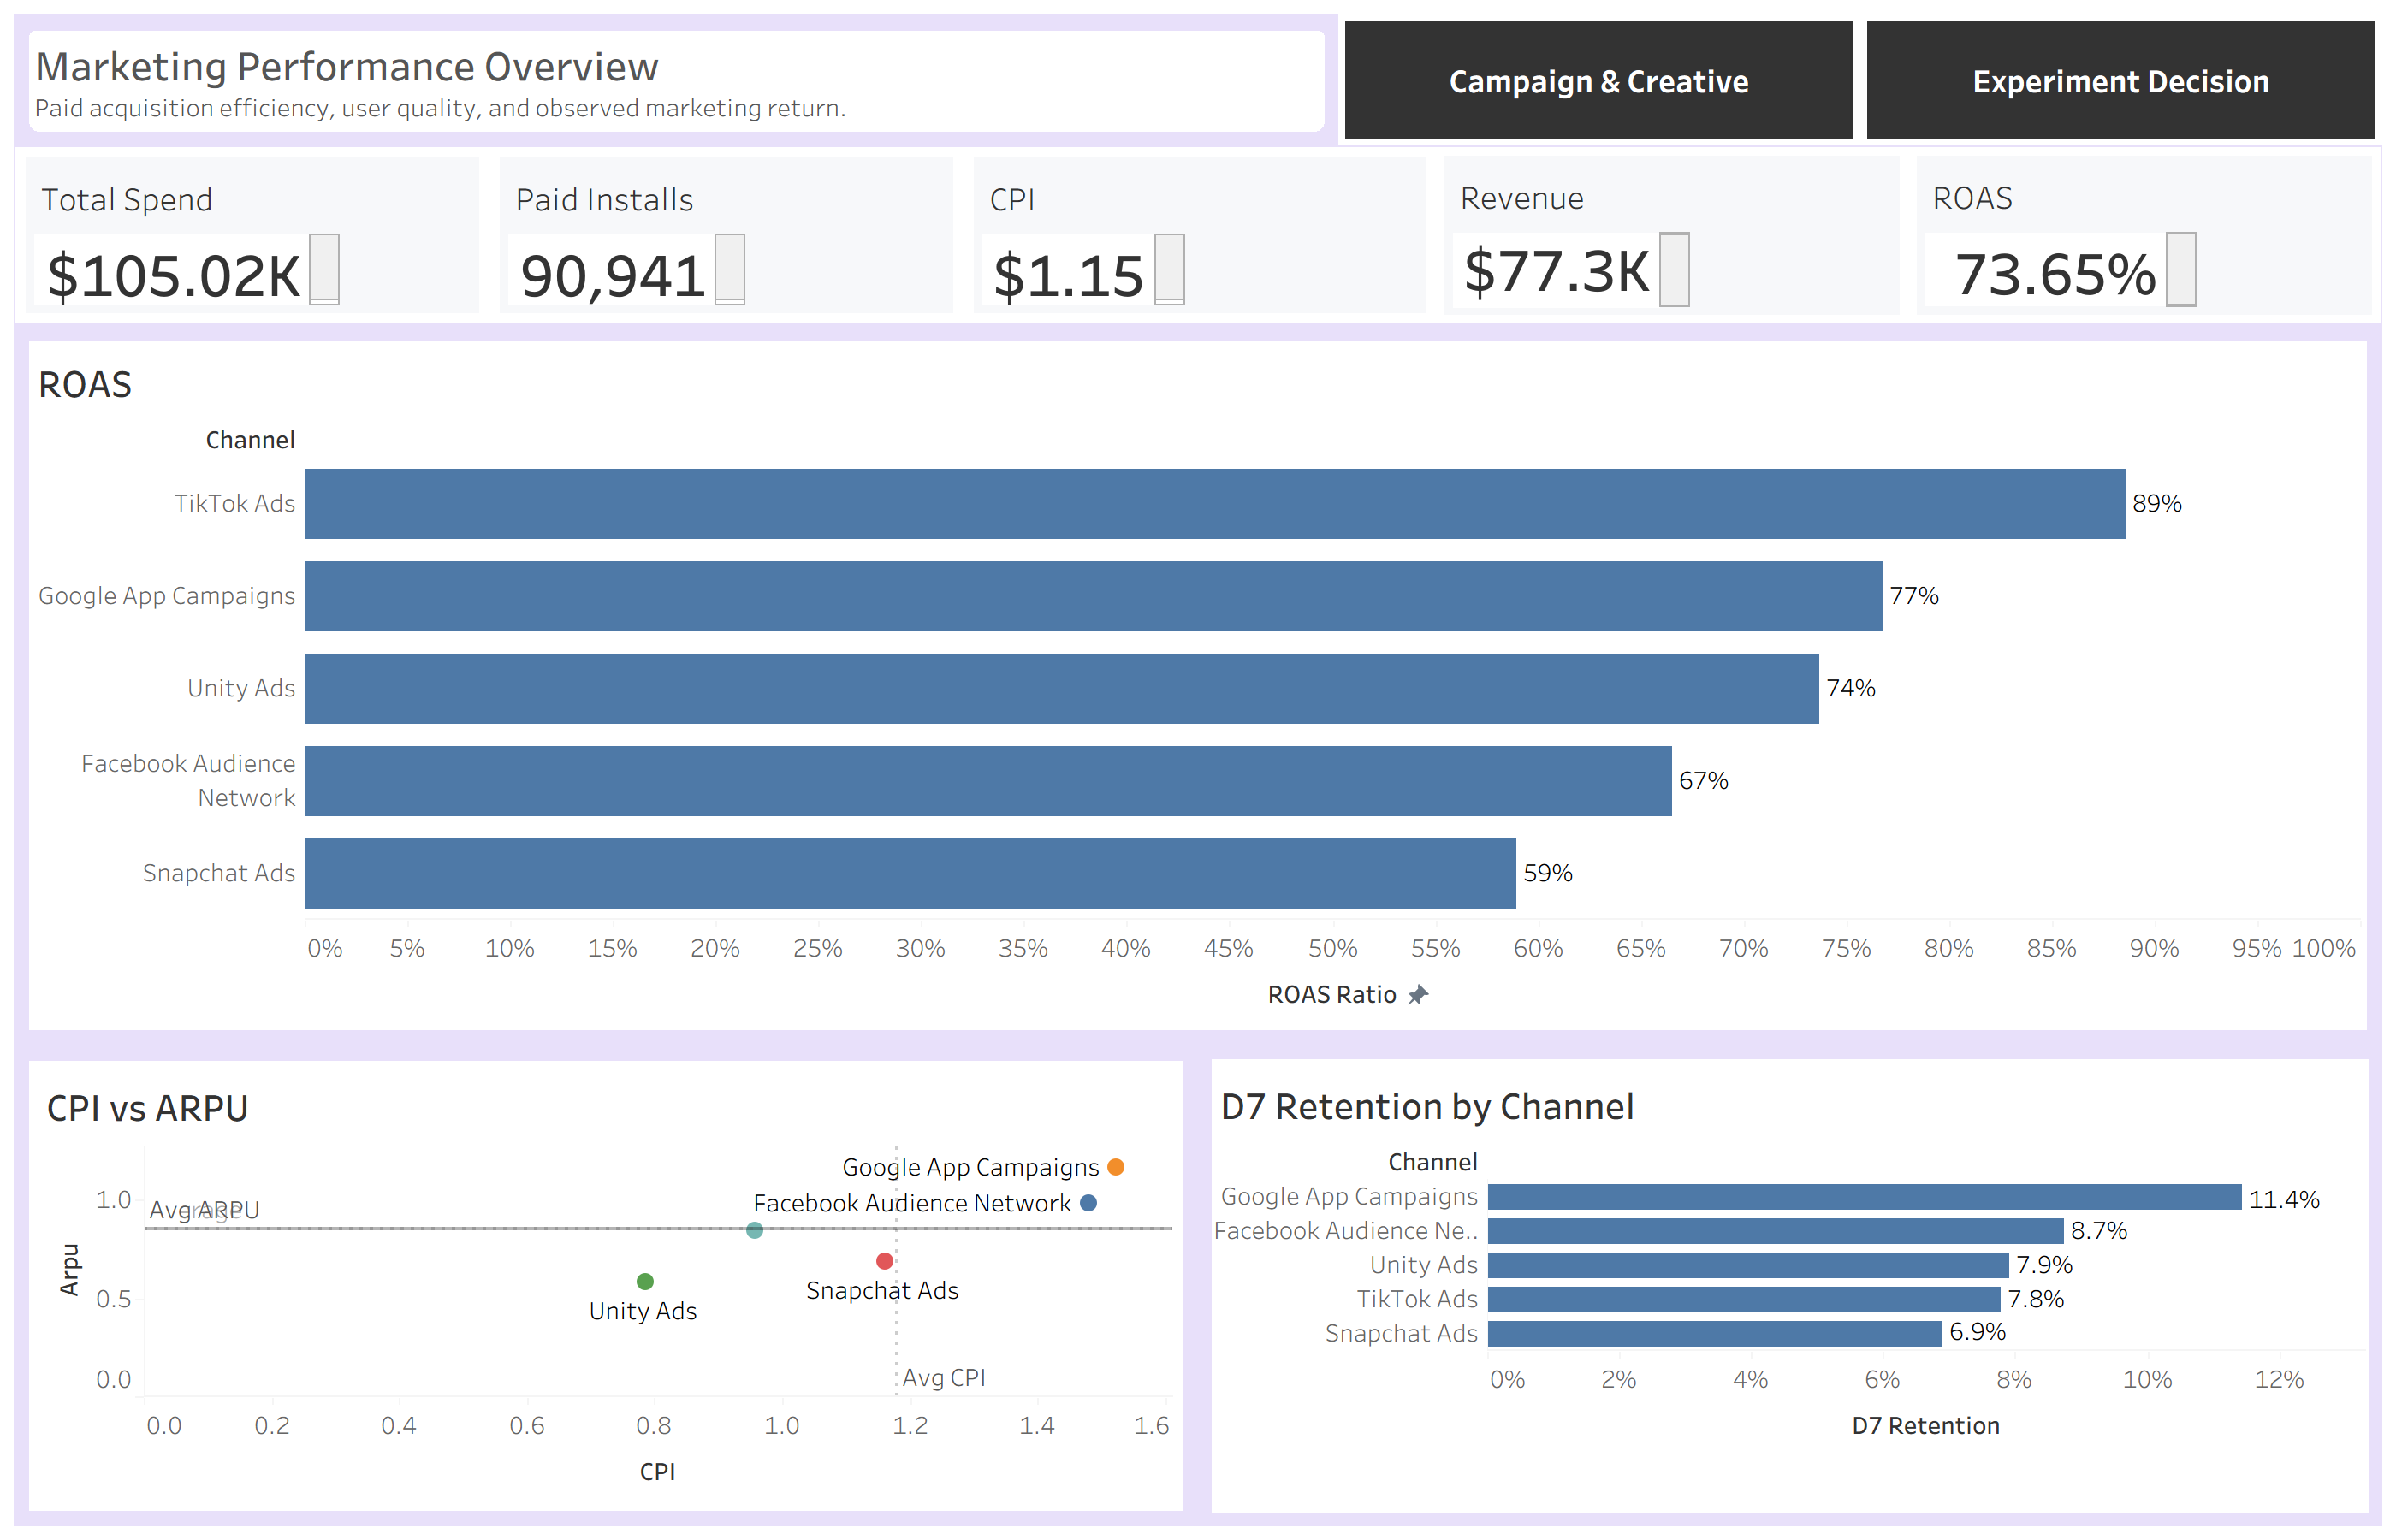

This screenshot's page, from the dashboard's own definition file:
{"tool":"tableau","page":{"name":"Marketing Performance Overview","canvas":[1400,900],"ordinal":1},"visuals":[{"type":"text","box":[8,8,774,77]},{"type":"dashboard-object","box":[782,8,305,77]},{"type":"dashboard-object","box":[1087,8,305,77]},{"type":"worksheet","title":"KPI- Total Spend","mark":"Automatic","box":[9,86,277,103]},{"type":"worksheet","title":"KPI-Paid Installs","mark":"Automatic","box":[286,86,277,103]},{"type":"worksheet","title":"KPI-CPI","mark":"Automatic","box":[563,86,276,103]},{"type":"worksheet","title":"KPI- Total Revenue","mark":"Automatic","box":[839,86,276,103]},{"type":"worksheet","title":"KPI-ROAS","mark":"Automatic","box":[1115,86,276,103]},{"type":"worksheet","title":"Channel ROAS Performance","mark":"Automatic","rows":["channel"],"cols":["Calculation_1420360768081922"],"box":[8,190,1384,421]},{"type":"worksheet","title":"CPI vs ARPU","mark":"Circle","rows":["arpu"],"cols":["cpi"],"box":[8,611,692,281]},{"type":"worksheet","title":"Channel Retention Performance","mark":"Automatic","rows":["channel"],"cols":["d7_retention_pct"],"box":[700,611,692,281]}]}

Visuals, with their boxes in screenshot pixels (x1, y1, x2, y2), scaled from the page's 1400x900 canvas onto the 2396x1540 screenshot:
text: x1=14 y1=14 x2=1338 y2=145
dashboard-object: x1=1338 y1=14 x2=1860 y2=145
dashboard-object: x1=1860 y1=14 x2=2382 y2=145
"KPI- Total Spend" worksheet: x1=15 y1=147 x2=489 y2=323
"KPI-Paid Installs" worksheet: x1=489 y1=147 x2=964 y2=323
"KPI-CPI" worksheet: x1=964 y1=147 x2=1436 y2=323
"KPI- Total Revenue" worksheet: x1=1436 y1=147 x2=1908 y2=323
"KPI-ROAS" worksheet: x1=1908 y1=147 x2=2381 y2=323
"Channel ROAS Performance" worksheet: x1=14 y1=325 x2=2382 y2=1045
"CPI vs ARPU" worksheet (Circle marks): x1=14 y1=1045 x2=1198 y2=1526
"Channel Retention Performance" worksheet: x1=1198 y1=1045 x2=2382 y2=1526
